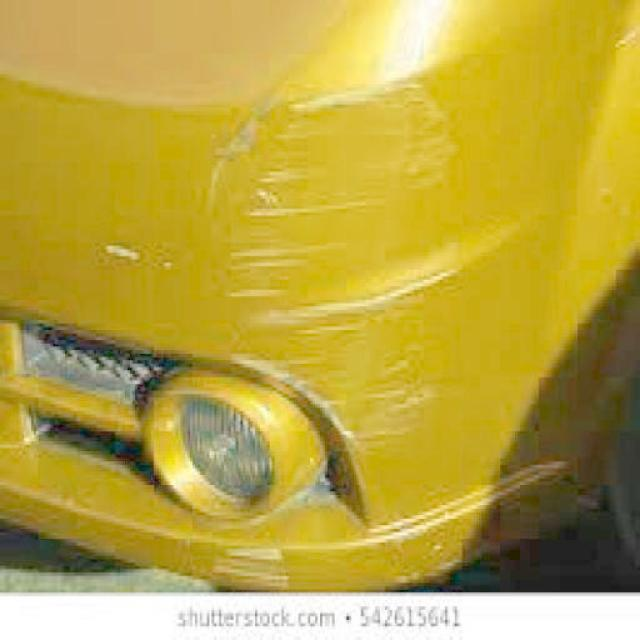car damage: (229, 67, 457, 448)
